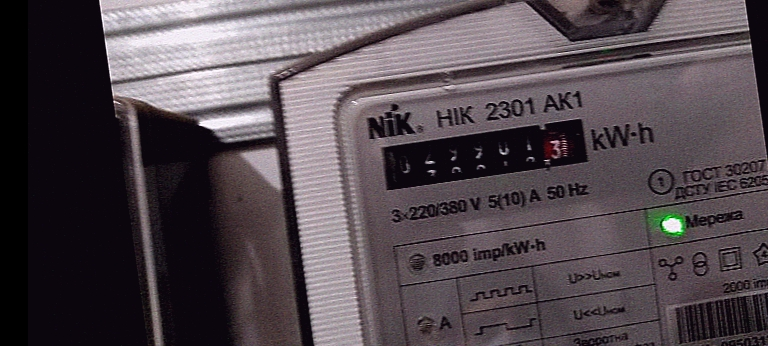0: (496, 132, 513, 158), (397, 152, 415, 175)
1: (521, 129, 537, 154)
2: (421, 146, 439, 167)
3: (549, 136, 565, 160)
9: (471, 137, 488, 161), (446, 141, 461, 164)
screen: (368, 107, 602, 202)
